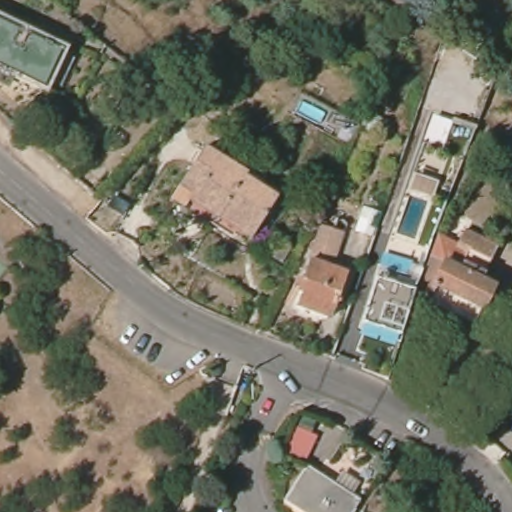pool: (399, 194, 428, 238), (293, 96, 327, 124)
